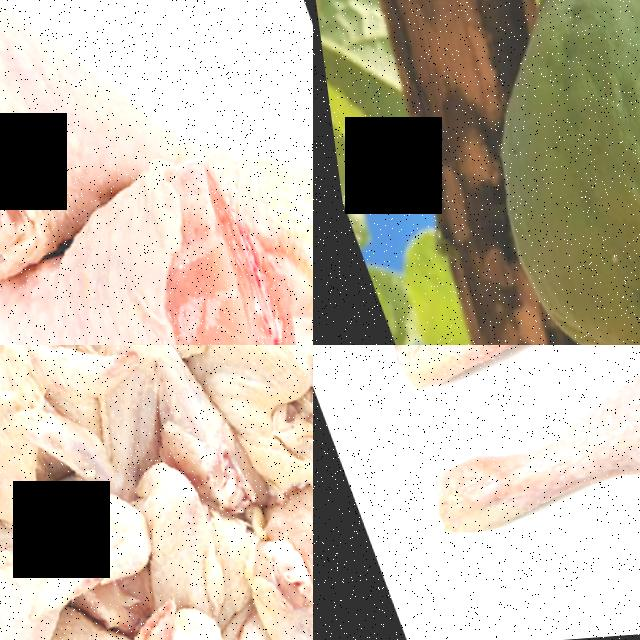chayote: (399, 0, 640, 345)
chicken thigh: (0, 0, 225, 293), (373, 345, 640, 572), (0, 154, 313, 345), (346, 345, 640, 412)
chicken wing: (40, 345, 235, 504), (0, 345, 120, 526), (170, 345, 313, 470)
